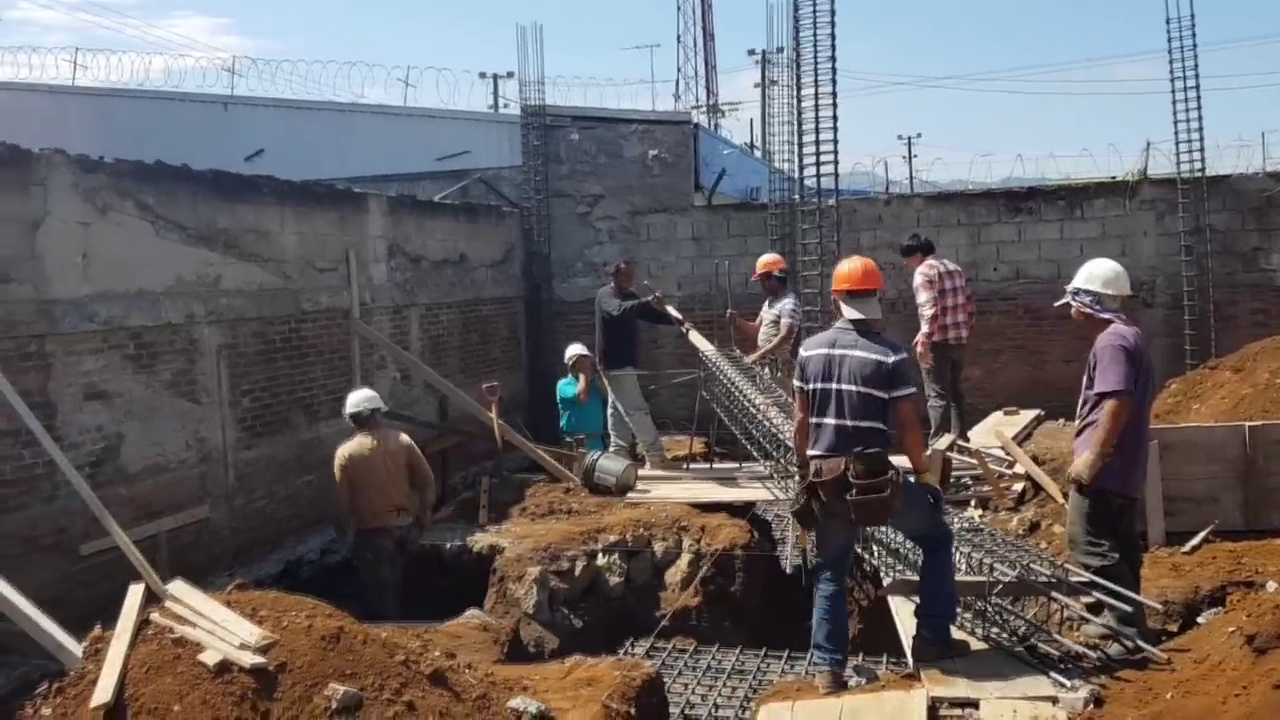helmet: (1061, 257, 1145, 309), (831, 256, 888, 298), (343, 391, 390, 421), (750, 253, 786, 283), (566, 343, 595, 365)
helmet-off: (902, 232, 941, 272), (612, 261, 637, 288)
helmet-on: (1059, 258, 1144, 331), (831, 255, 888, 331), (344, 388, 390, 441), (563, 338, 599, 385), (750, 255, 785, 302)
person: (790, 257, 975, 702), (1068, 254, 1160, 673), (326, 386, 430, 613), (601, 260, 684, 471), (903, 232, 977, 459), (738, 250, 798, 393), (550, 339, 614, 455)
